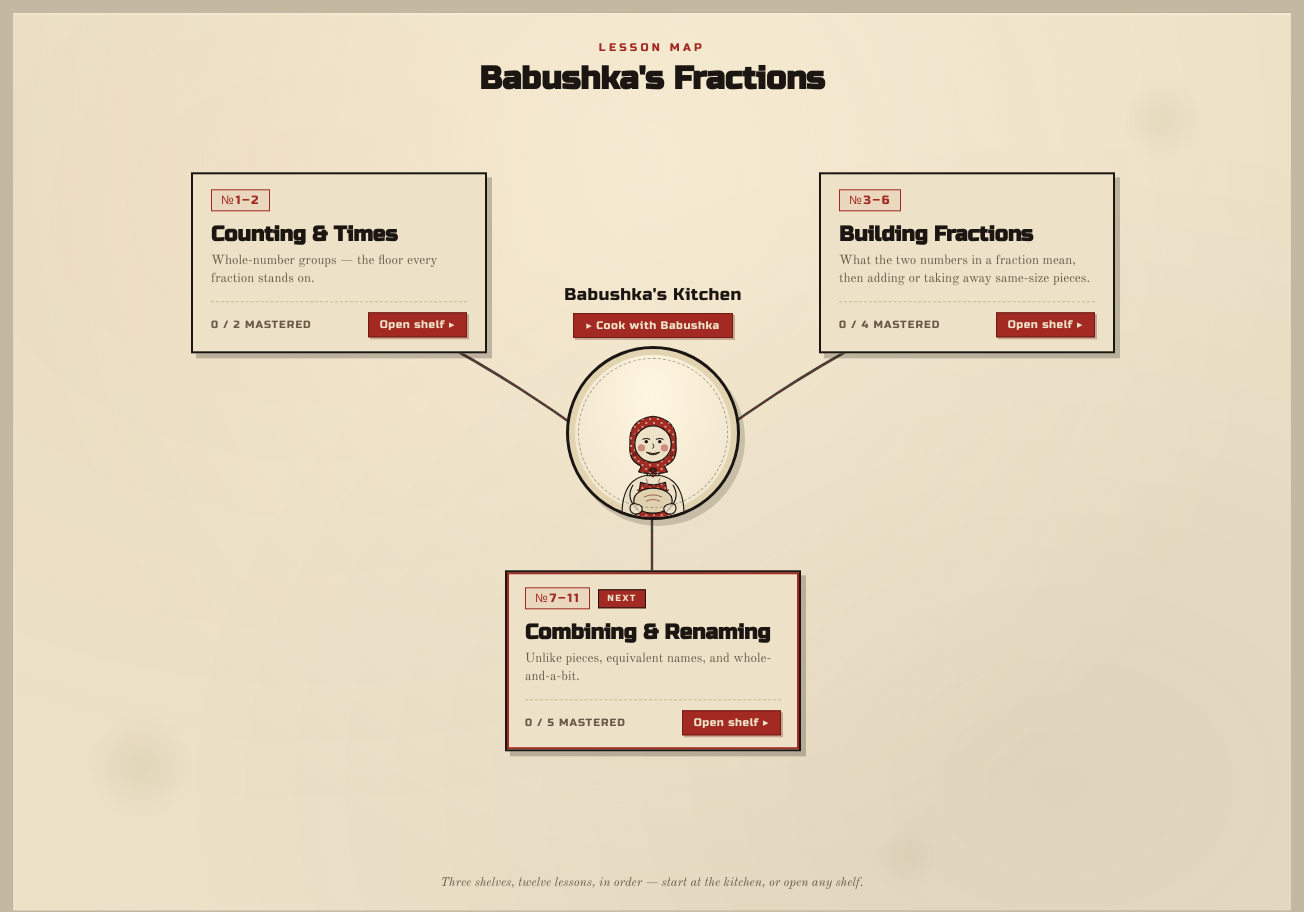
Scenario: WorldMap — two-level shelf/submenu rendering › flags the suggested room: its shelf carries a "Next" badge, its card is data-suggested
The image size is (1304, 912).
Expected: the text "Next" is shown, [598, 589, 646, 608]
Note: Open that shelf and confirm the suggested card is marked.
Step 1. Click the button with class "shelf--suggested" → point(653, 661), box [505, 570, 801, 752]
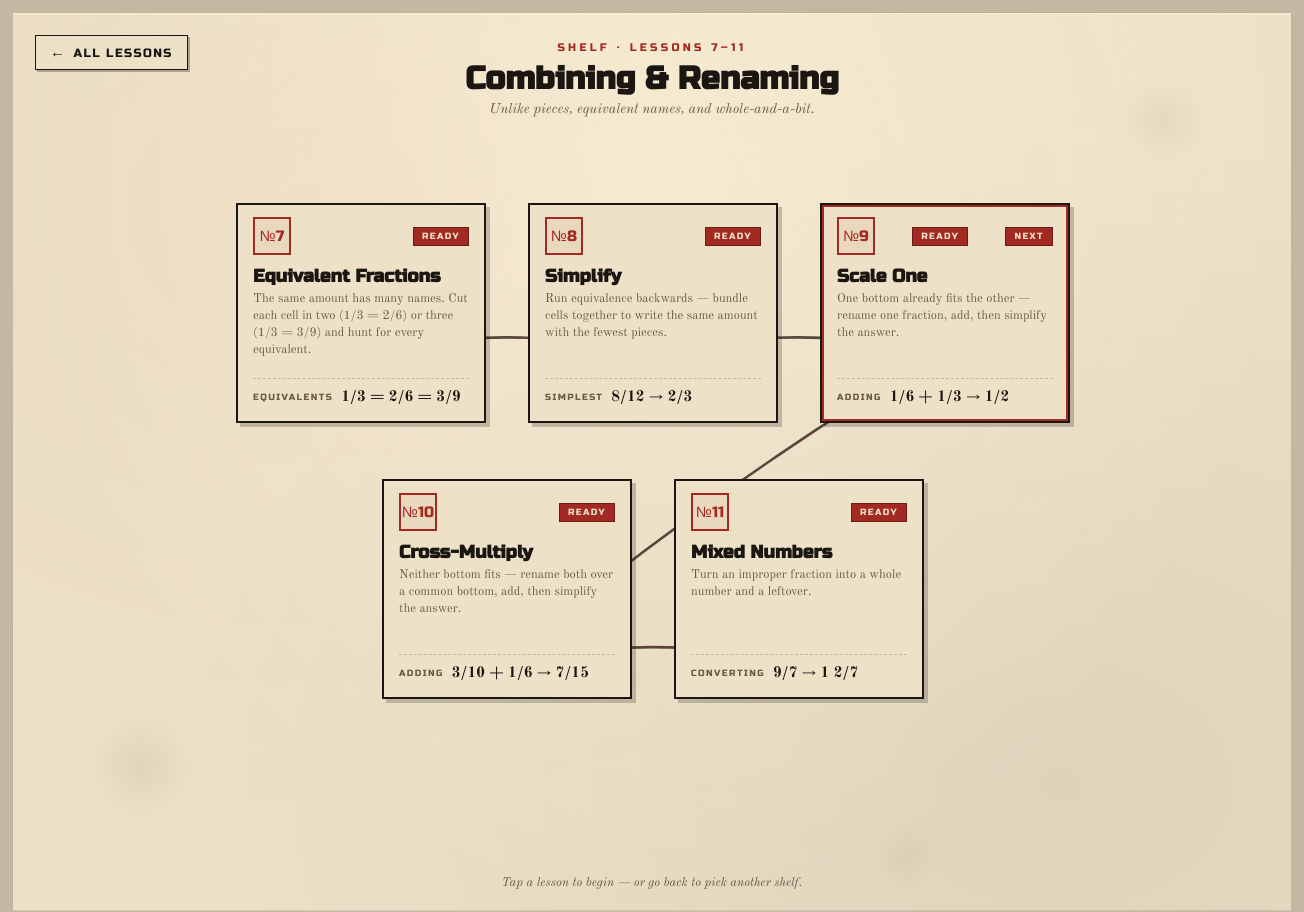
Expected: the button with aria-label "Open Lesson 9" is shown, [820, 203, 1070, 423]
